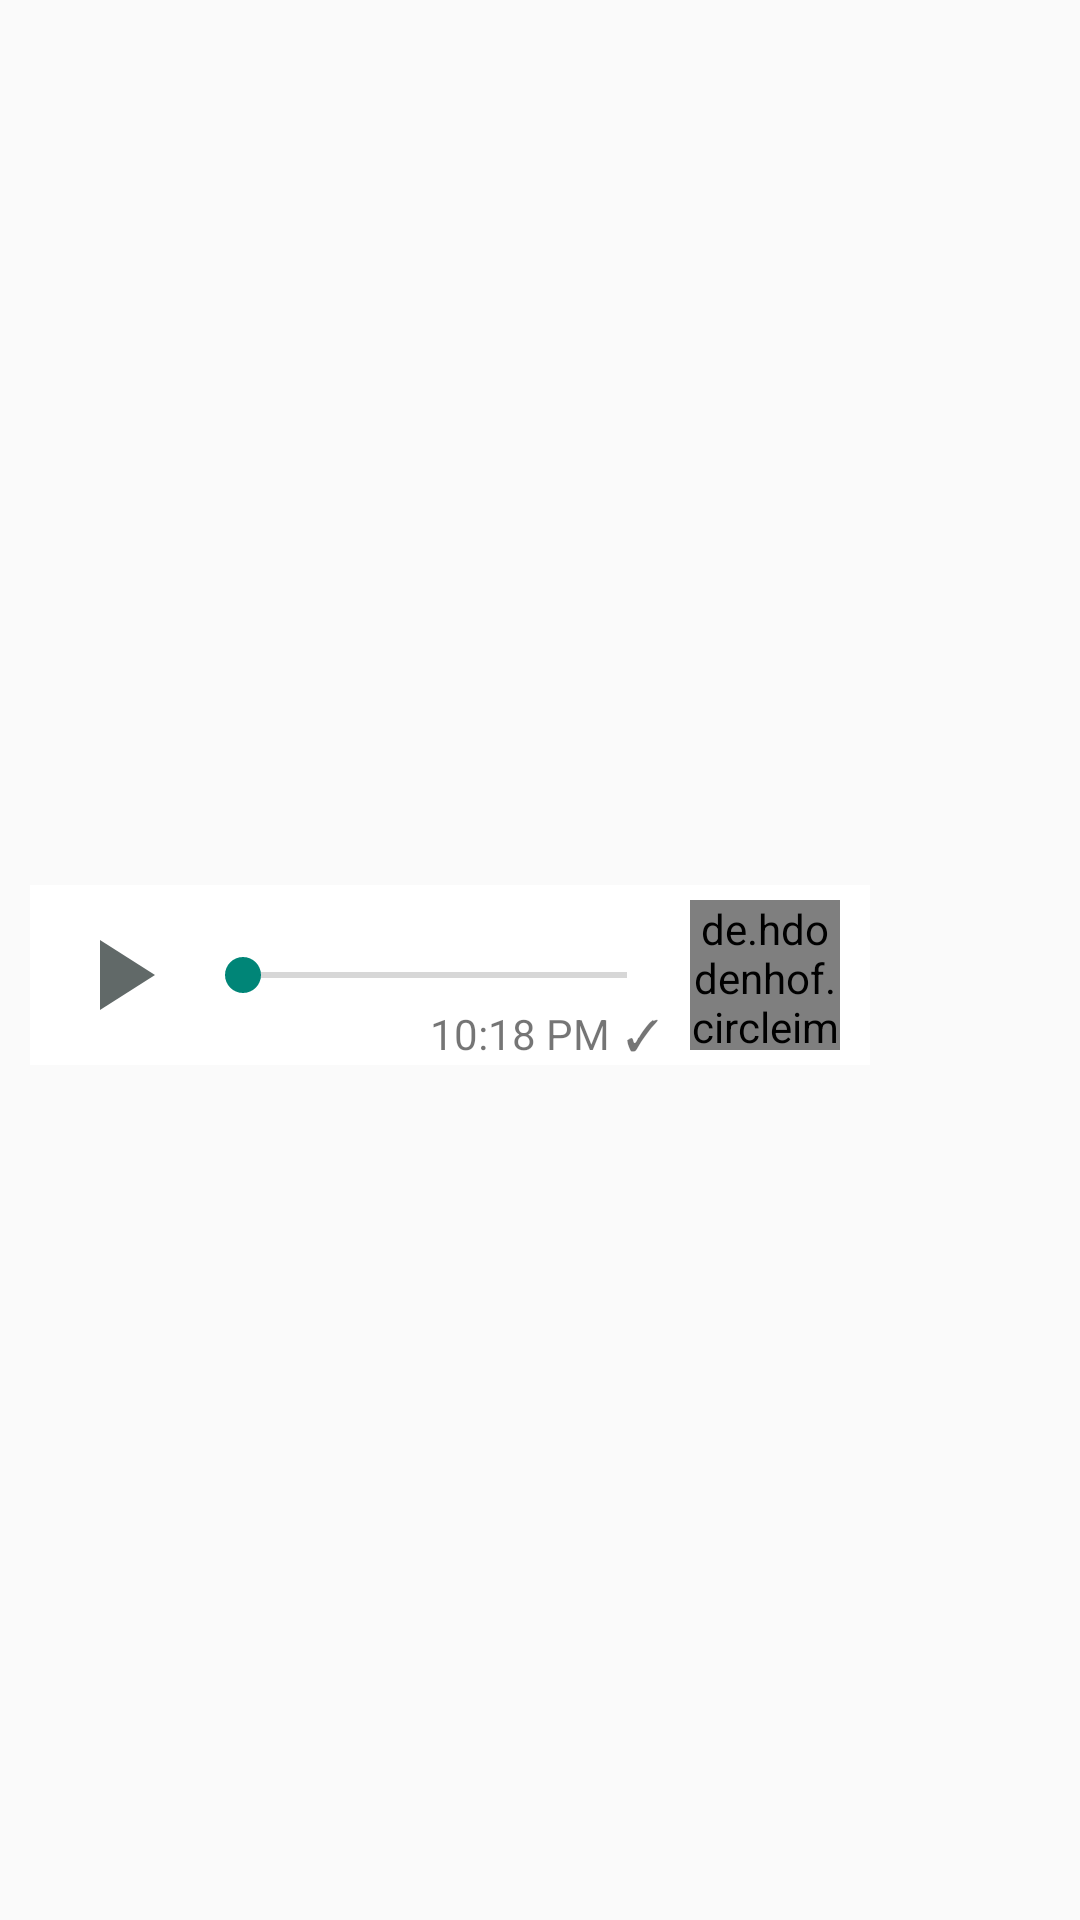

Locate icon controls on the screen. Image size 1080px x 1920px, boxes as (x1, y1, x2, y2).
play arrow: (100, 940, 155, 1010)
